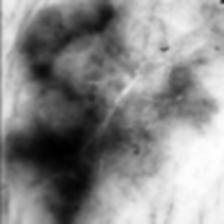Potentially Malignant Skin Tumors: (6, 0, 116, 224)
